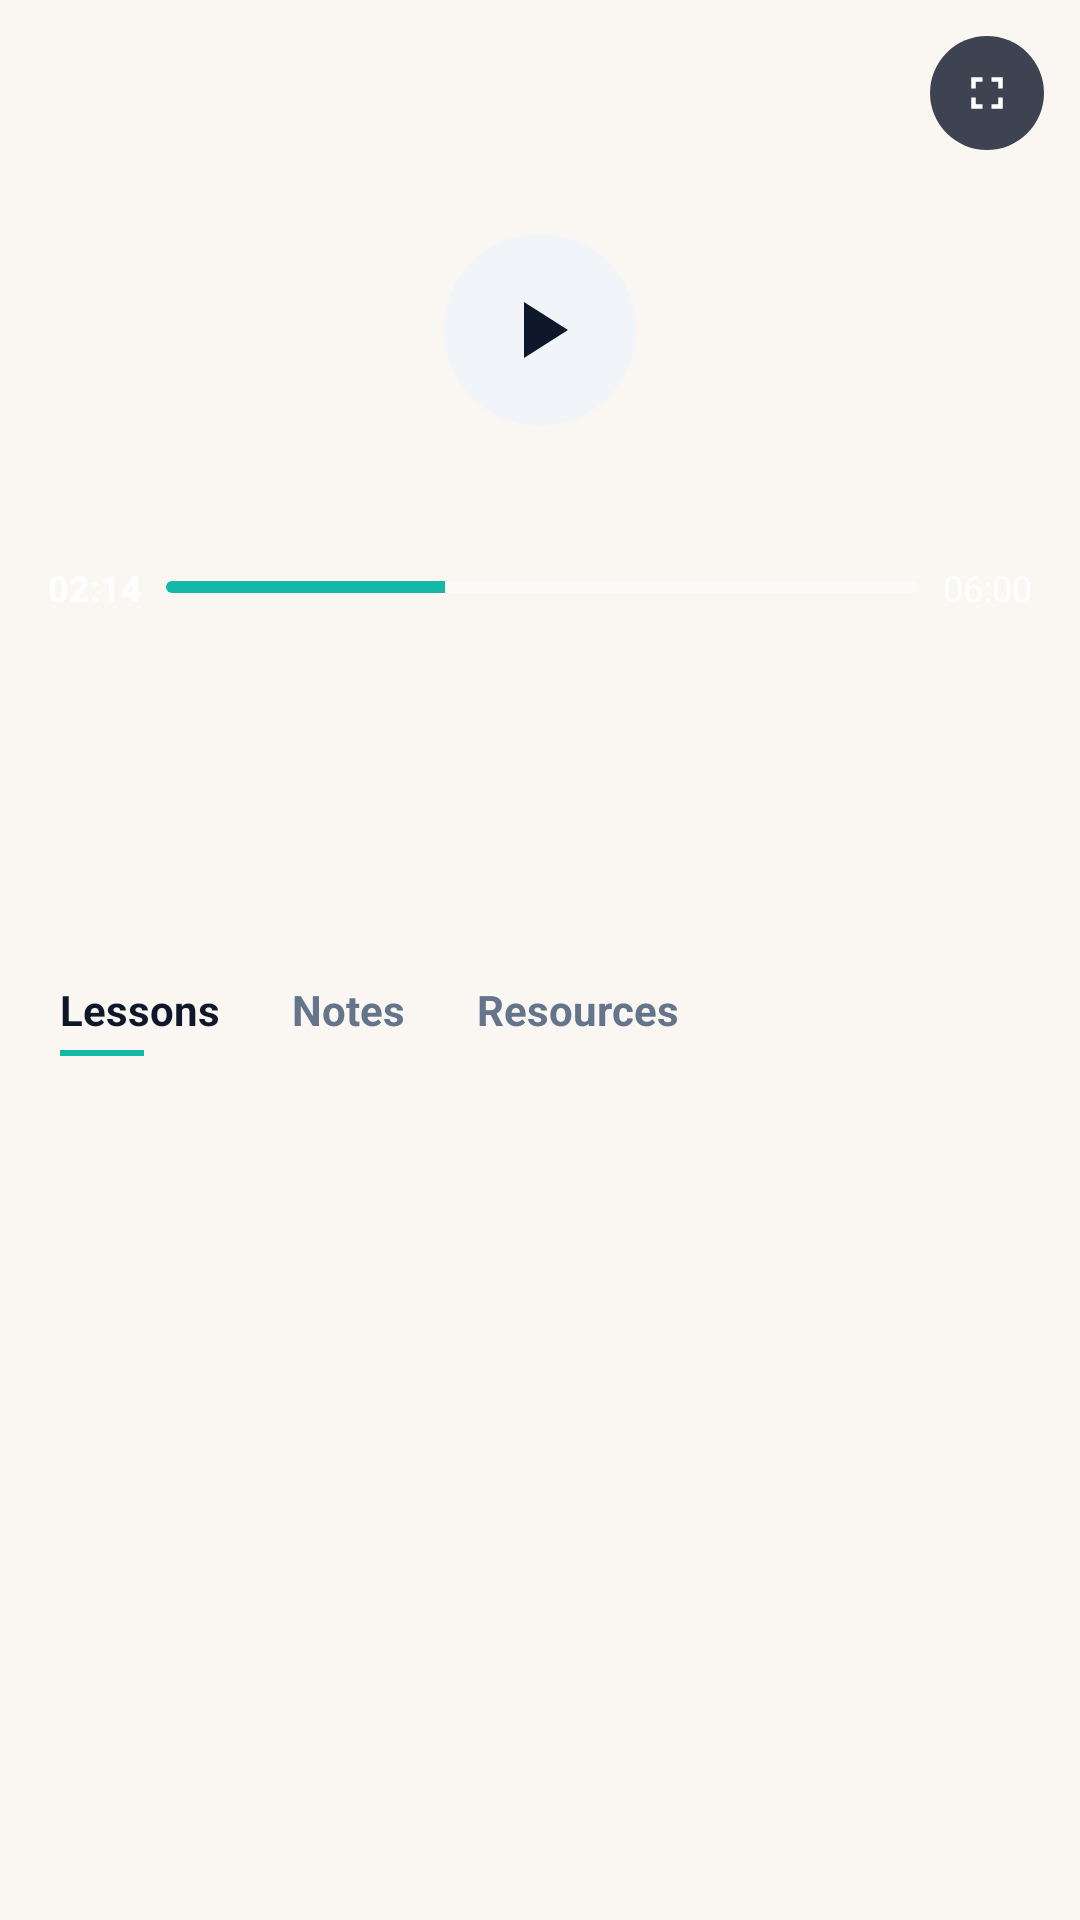

Where to tap for icons on this 1080w x 1920h app screen, as (x=x, y=y):
fullscreen: (x=987, y=93)
play arrow: (x=546, y=330)
